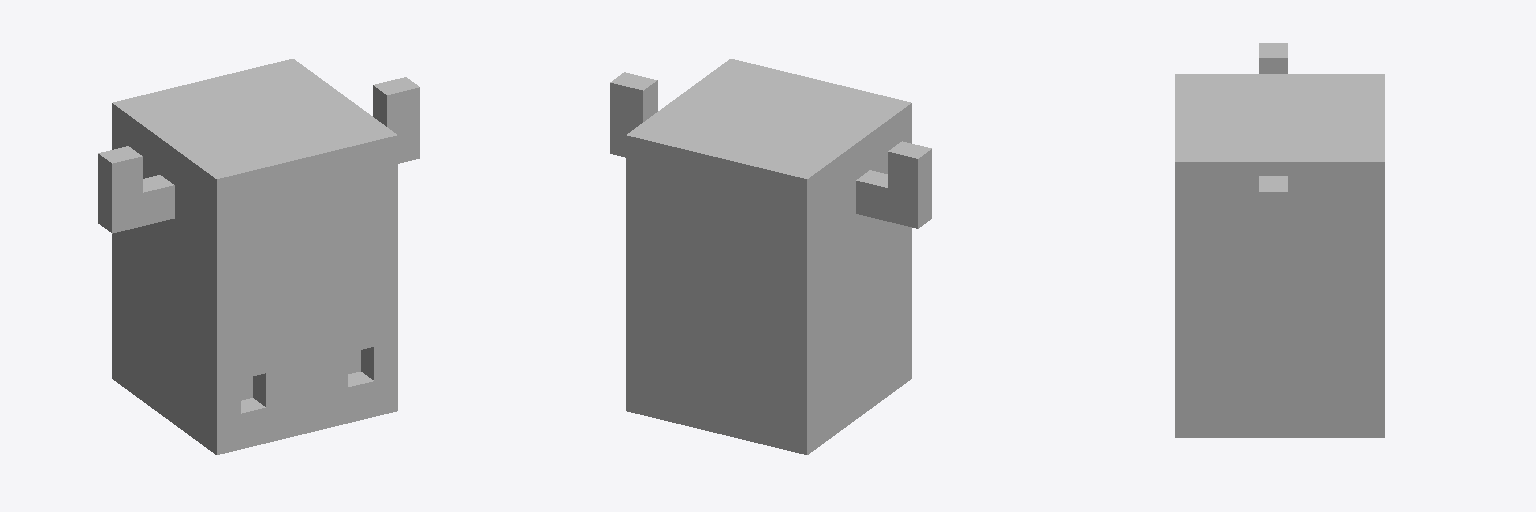
The model's file is head.obj.
The picture shows the model from 3 angles: view 1: azimuth 30°, elevation 25°; view 2: azimuth 150°, elevation 25°; view 3: azimuth 270°, elevation 25°; orthographic projection.
Parts seen in each view (by area): view 1: Cube_Cube.002; view 2: Cube_Cube.002; view 3: Cube_Cube.002.
Part boxes in pixels (x1,y1,x2,y2): Cube_Cube.002: (98, 59, 419, 454); Cube_Cube.002: (610, 59, 931, 454); Cube_Cube.002: (1175, 43, 1384, 437).
Size of the model in its own units: 1.6 by 1.37 by 0.9406.